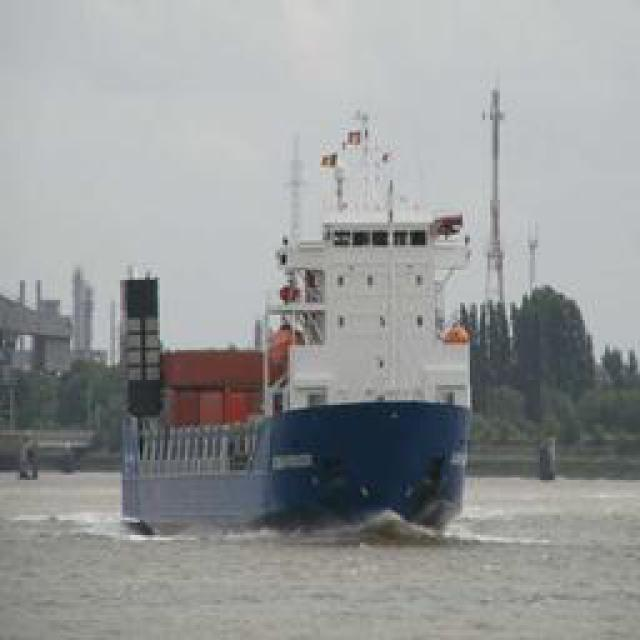Ship: (116, 110, 486, 547)
